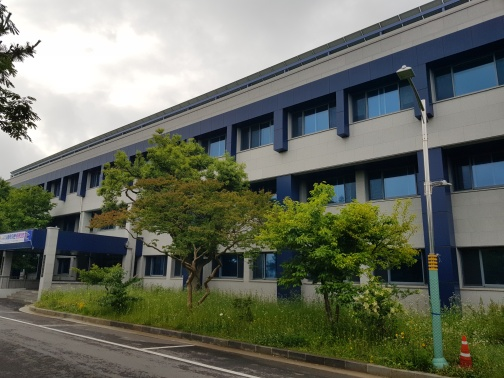College of Social Sciences: (22, 11, 500, 312), (258, 35, 441, 154)
